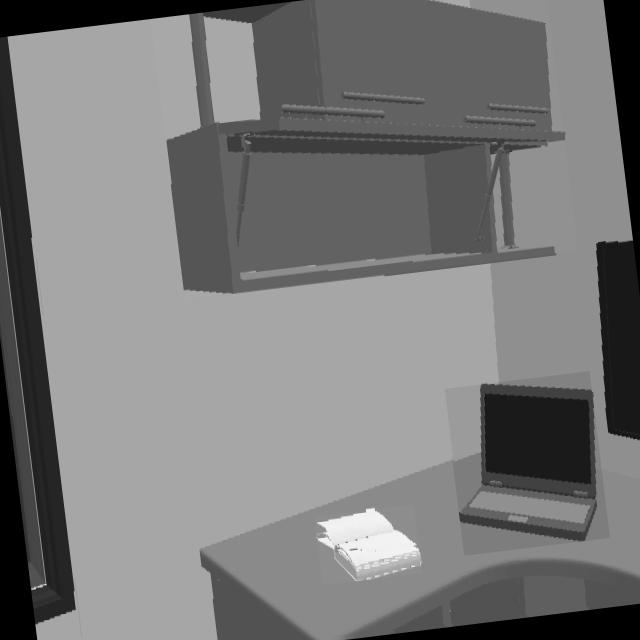book: (318, 510, 421, 580)
cabinet: (168, 0, 563, 293)
laptop: (461, 384, 596, 541)
monitor: (598, 241, 640, 439)
table: (200, 454, 640, 640)
